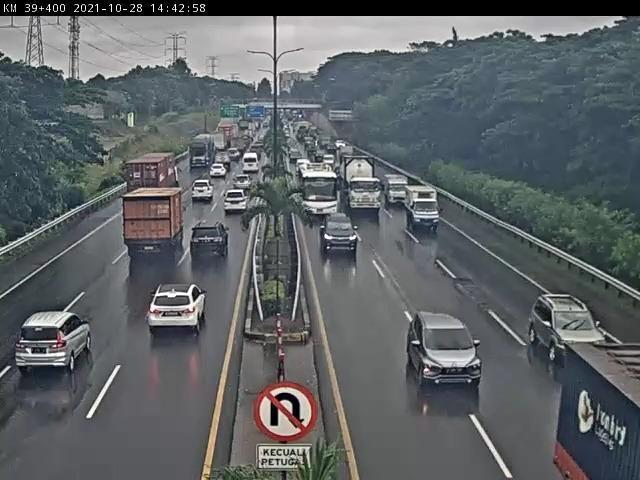bus: (299, 163, 340, 220)
car: (409, 313, 486, 394), (532, 293, 606, 370), (14, 312, 93, 374), (147, 283, 208, 335), (320, 211, 362, 259), (190, 221, 232, 259), (228, 185, 251, 210), (195, 177, 217, 202)
truck: (121, 186, 178, 253), (340, 155, 383, 215), (131, 150, 183, 197), (410, 186, 449, 236), (387, 175, 416, 213)
